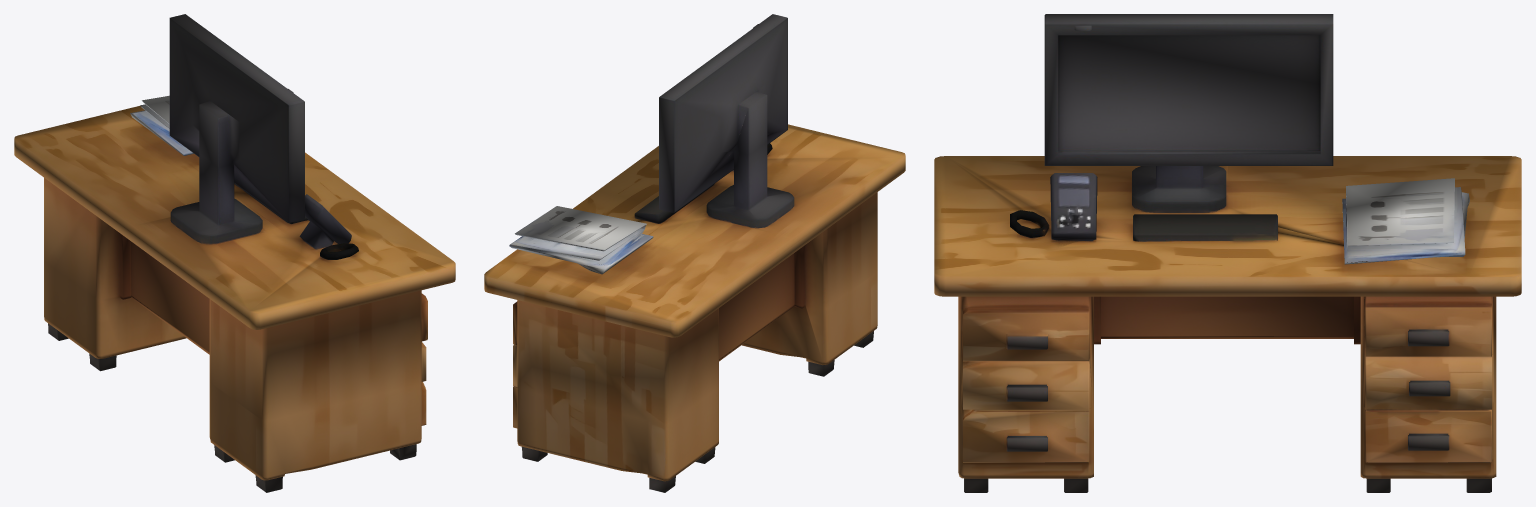
The model's file is gym_office_desk.glb.
3 views of the same model, side by side, from view 1: azimuth 30°, elevation 25°; view 2: azimuth 150°, elevation 25°; view 3: azimuth 270°, elevation 25° (orthographic). The views are drawn at different scales.
Parts seen in each view (by area): view 1: tripo_node_8fb26958-62ef-4353-ab6b-5a4229f38131; view 2: tripo_node_8fb26958-62ef-4353-ab6b-5a4229f38131; view 3: tripo_node_8fb26958-62ef-4353-ab6b-5a4229f38131.
Boxes of the visible parts, box(x1,y1,x2,y2) form: tripo_node_8fb26958-62ef-4353-ab6b-5a4229f38131: box(14, 14, 455, 492); tripo_node_8fb26958-62ef-4353-ab6b-5a4229f38131: box(484, 14, 905, 492); tripo_node_8fb26958-62ef-4353-ab6b-5a4229f38131: box(934, 14, 1521, 492).
Size of the model in its own units: 0.4873 by 0.7965 by 1.
Materials: 1 (1 with a texture image).
